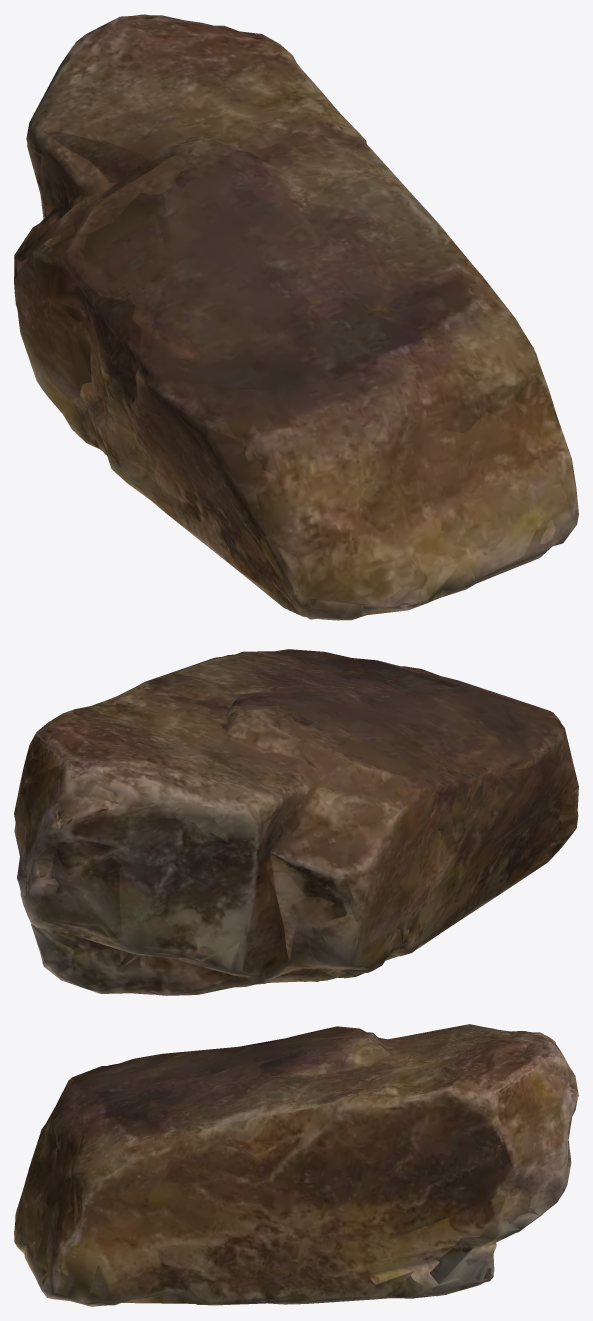
Rendered from roca_1.glb.
3 views of the same model, one above another, from view 1: azimuth 30°, elevation 25°; view 2: azimuth 150°, elevation 25°; view 3: azimuth 270°, elevation 25° (orthographic). The views are drawn at different scales.
Parts seen in each view (by area): view 1: rock_07_LOD0; view 2: rock_07_LOD0; view 3: rock_07_LOD0.
Part boxes in pixels (<box>): rock_07_LOD0: <box>14,14,578,620</box>; rock_07_LOD0: <box>14,649,578,995</box>; rock_07_LOD0: <box>14,1024,578,1306</box>.
Size of the model in its own units: 0.1672 by 0.1433 by 0.3204.
1 material, 1 textured.
